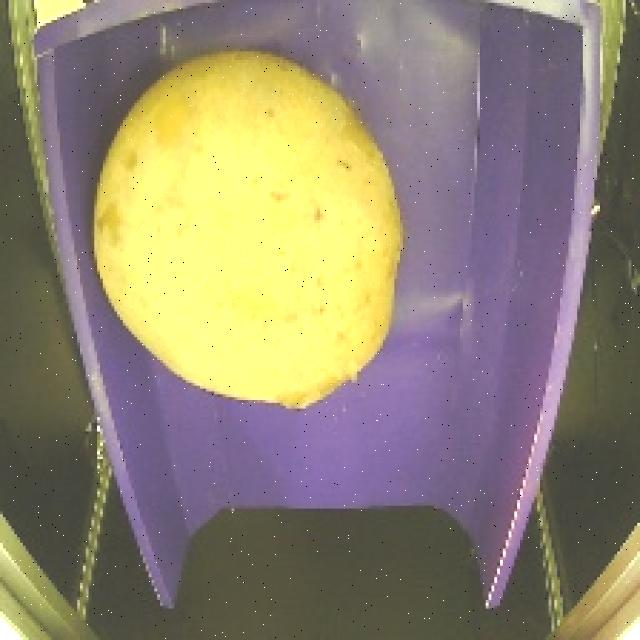full_potato: (75, 39, 415, 421)
